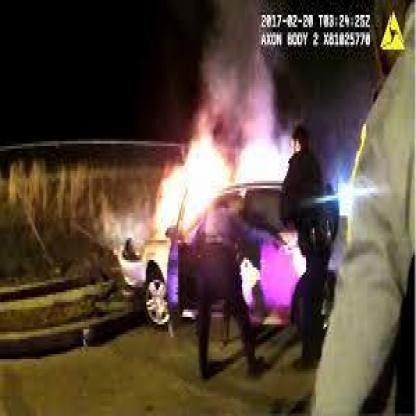fire: (142, 119, 298, 244)
